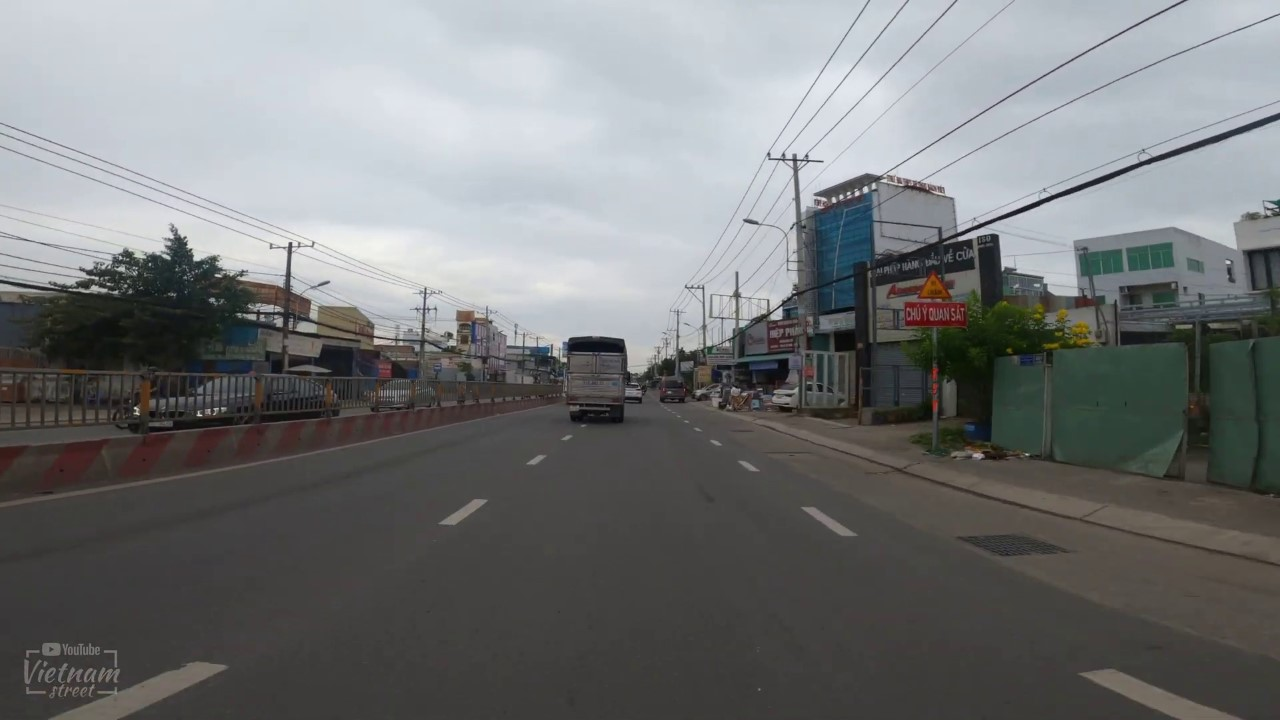di_cham: (916, 269, 954, 300)
